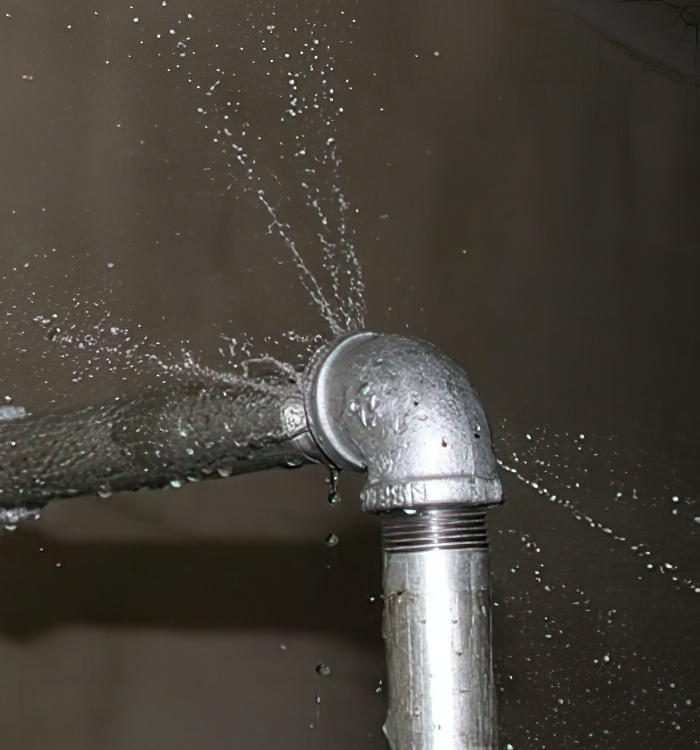pipe burst: (97, 69, 370, 468)
water drop: (325, 465, 342, 506), (316, 660, 330, 678), (326, 532, 340, 548), (218, 464, 233, 478), (170, 475, 184, 488), (97, 486, 111, 498), (185, 472, 199, 483), (202, 466, 213, 476)
